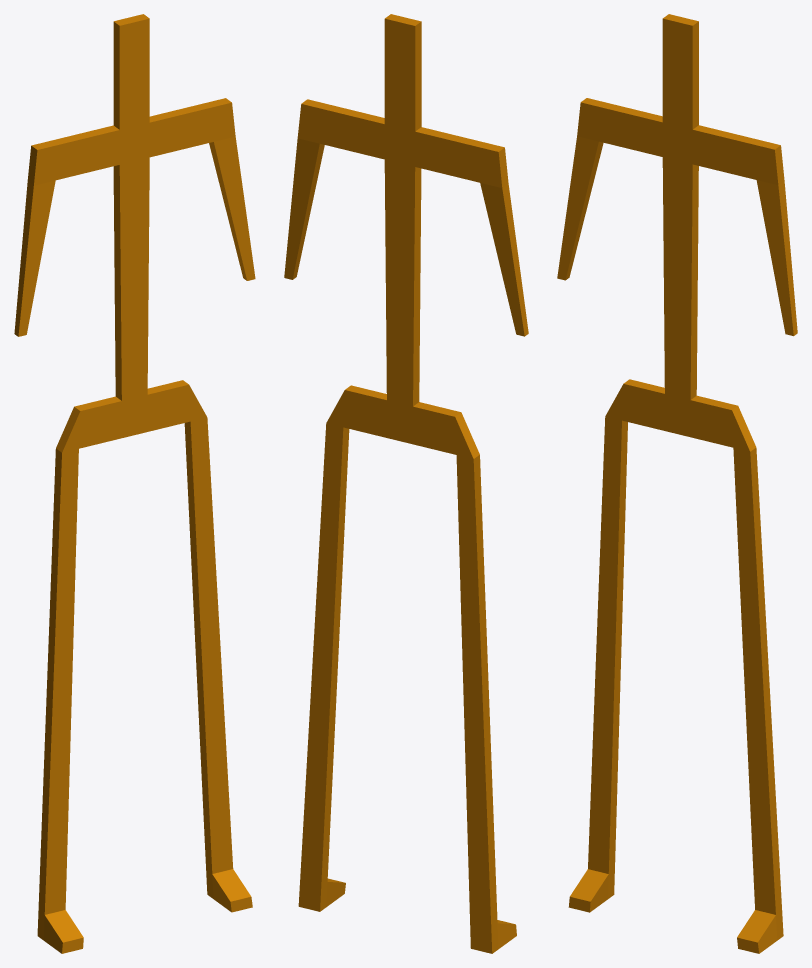
File: ArmorStand_01.fbx
3 views of the same model, side by side, from view 1: azimuth 30°, elevation 25°; view 2: azimuth 150°, elevation 25°; view 3: azimuth 330°, elevation 25° (orthographic).
Visible parts, largest first — view 1: ArmorStand_01; view 2: ArmorStand_01; view 3: ArmorStand_01.
Boxes of the visible parts, x1,y1,x2,y2 form: ArmorStand_01: (14,14,255,953); ArmorStand_01: (284,14,528,953); ArmorStand_01: (557,14,797,953).
Size of the model in its own units: 42.33 by 153 by 7.55.
